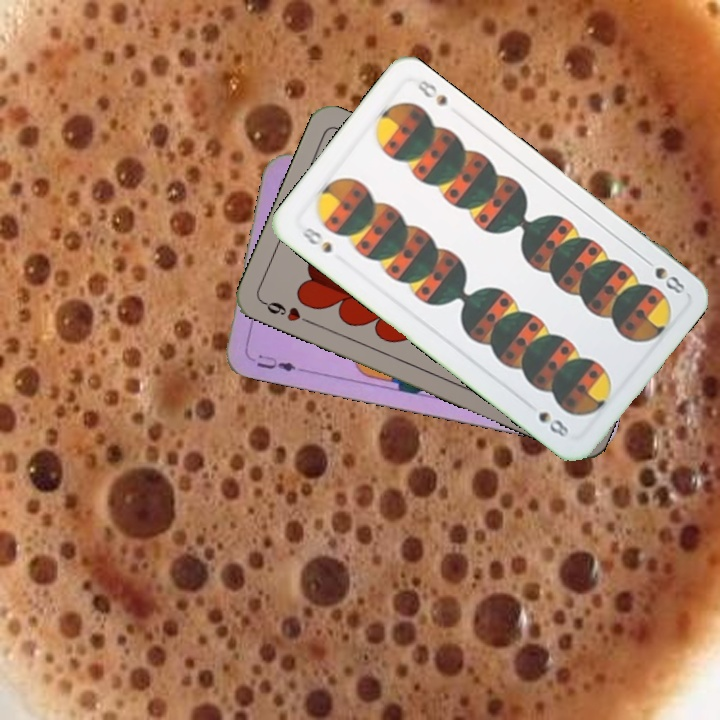EU: (252, 350, 298, 374)
H9: (258, 297, 315, 327)
S8: (638, 253, 688, 297), (297, 223, 335, 256)
